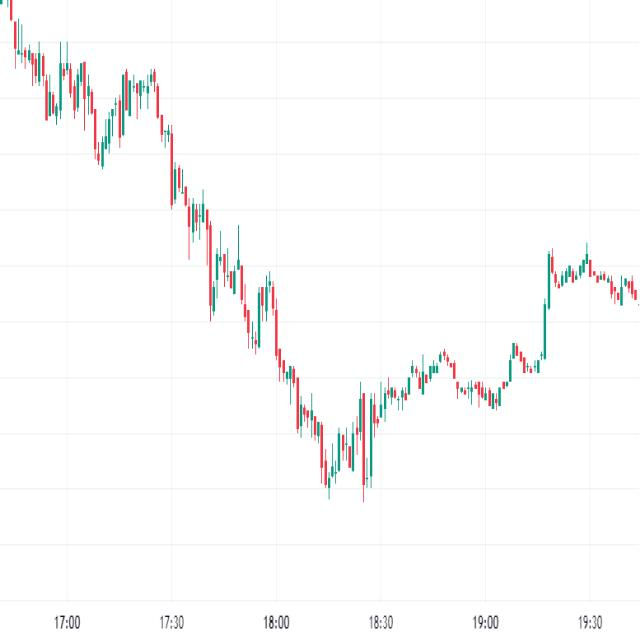Cup-and-handle: (440, 332, 550, 420)
